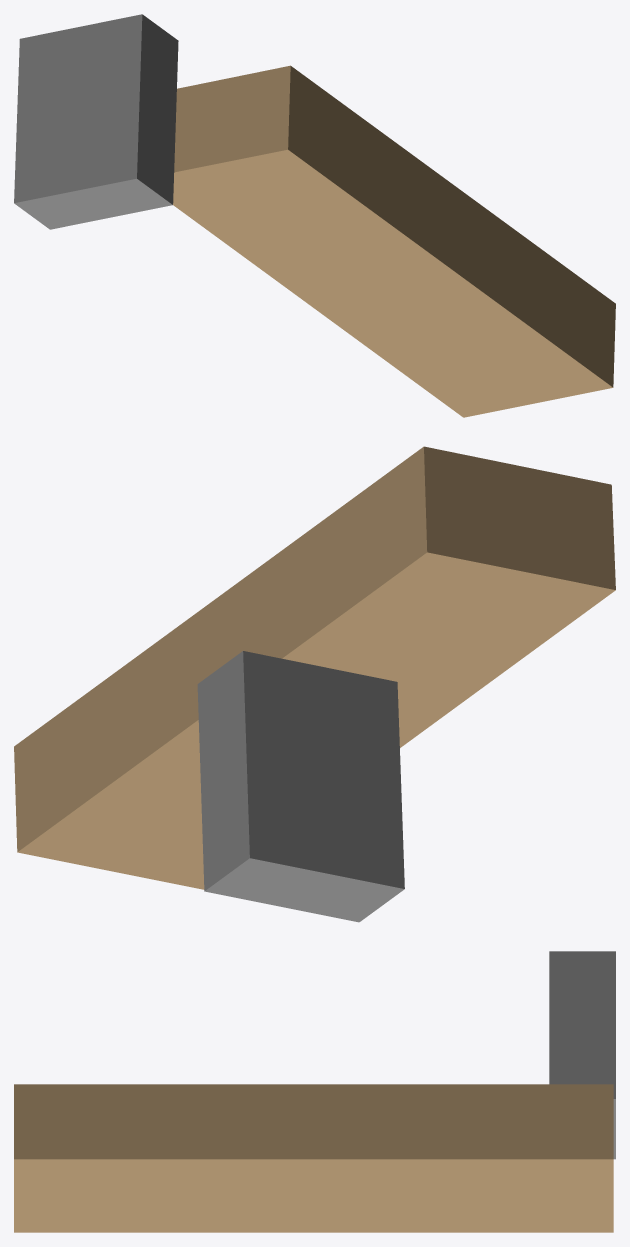
3 views of the same model, one above another, from view 1: azimuth 30°, elevation 25°; view 2: azimuth 150°, elevation 25°; view 3: azimuth 270°, elevation 25° (orthographic). The views are drawn at different scales.
Visible parts, largest first — view 1: 0_2_3_2_3_3_2_3_1_2_0; view 2: 0_2_3_2_3_3_2_3_1_2_0; view 3: 0_2_3_2_3_3_2_3_1_2_0.
Boxes of the visible parts, bbox=[...] form: 0_2_3_2_3_3_2_3_1_2_0: bbox=[14, 14, 615, 417]; 0_2_3_2_3_3_2_3_1_2_0: bbox=[14, 446, 615, 922]; 0_2_3_2_3_3_2_3_1_2_0: bbox=[14, 951, 615, 1232].
Bounding box in the file's own units: 13.2 × 8.01 × 27.11.
